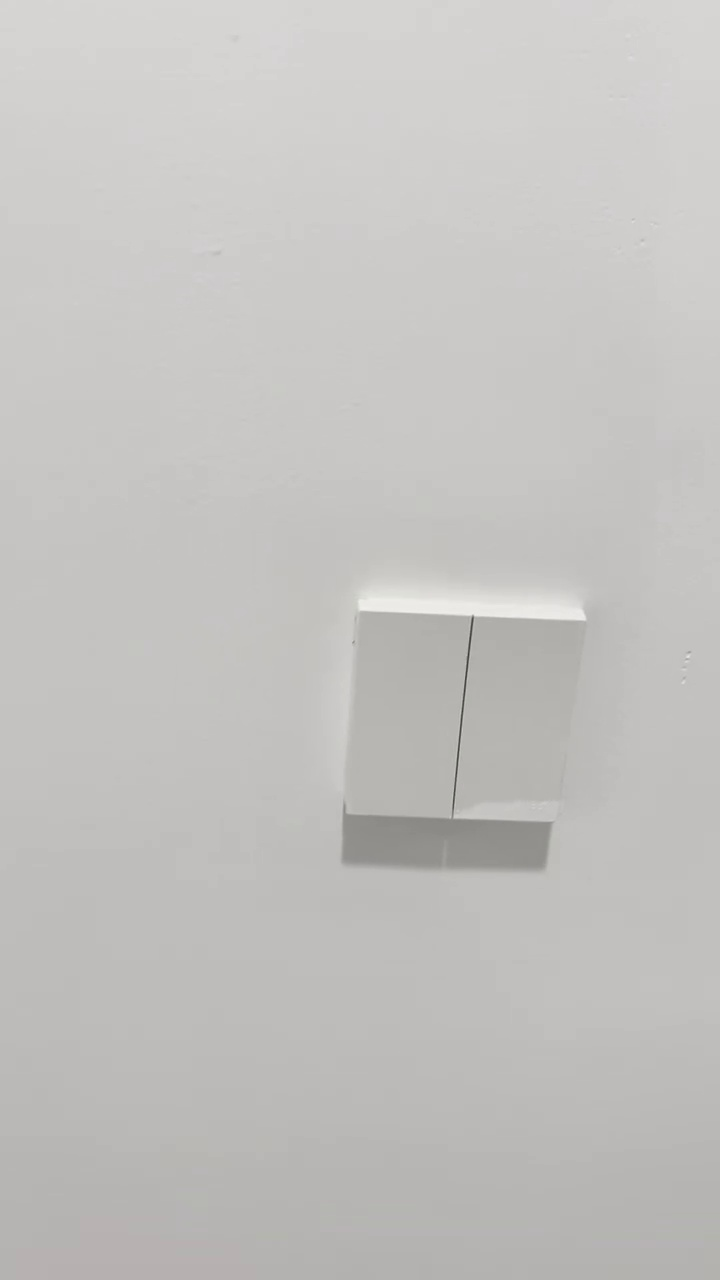button: (339, 595, 593, 829)
